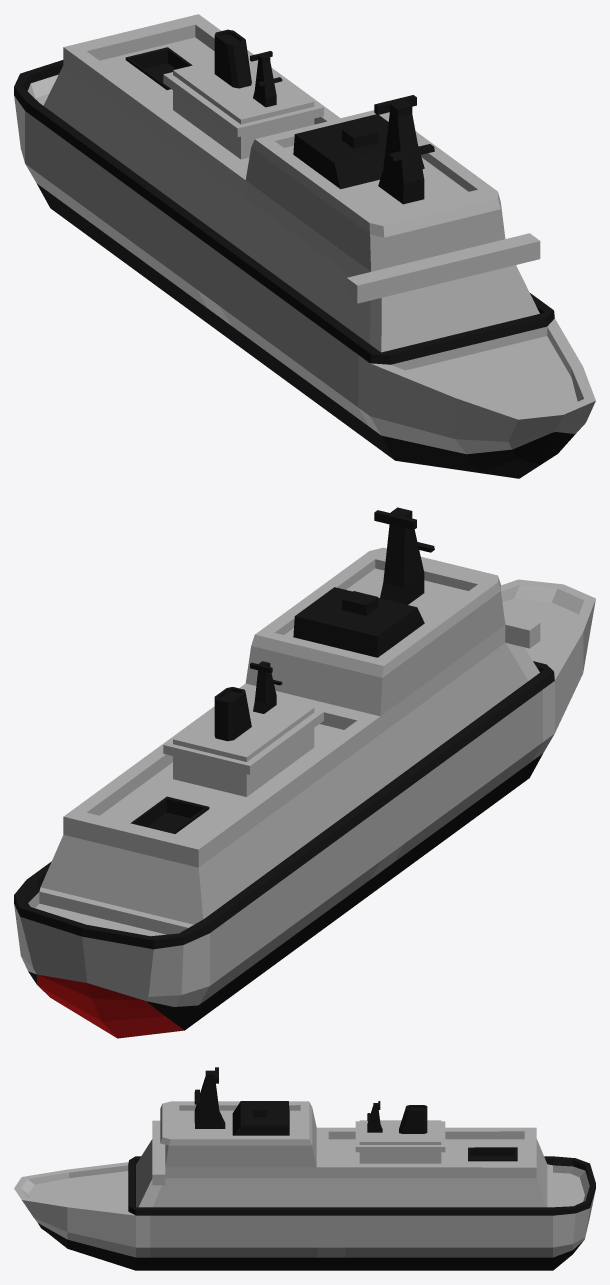
File: CruiseShip.obj
3 renders of one model, top to bottom at view 1: azimuth 30°, elevation 25°; view 2: azimuth 150°, elevation 25°; view 3: azimuth 270°, elevation 25°, orthographic. The views are drawn at different scales.
Parts seen in each view (by area): view 1: CruiseShip_Cube; view 2: CruiseShip_Cube; view 3: CruiseShip_Cube.
Boxes of the visible parts, <box> form: CruiseShip_Cube: <box>14,14,595,478</box>; CruiseShip_Cube: <box>14,507,595,1038</box>; CruiseShip_Cube: <box>14,1067,595,1270</box>.
Bounding box in the file's own units: 4 × 6.6 × 18.05.
